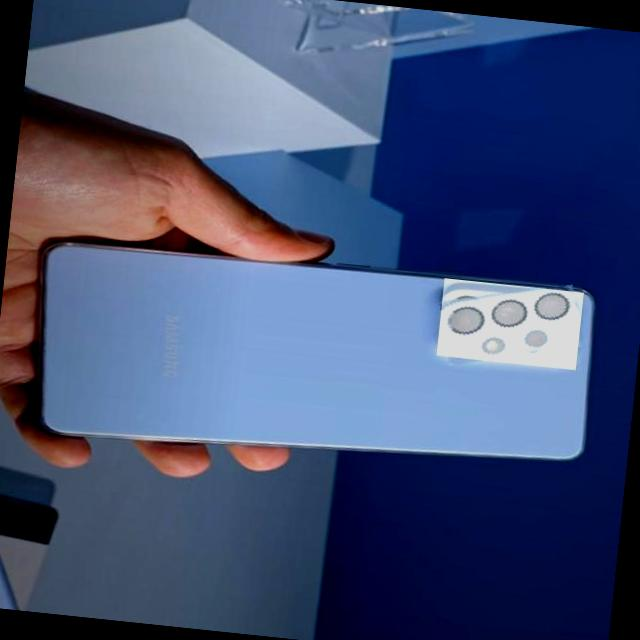lens_back: (441, 280, 571, 366)
phone: (19, 225, 604, 492)
